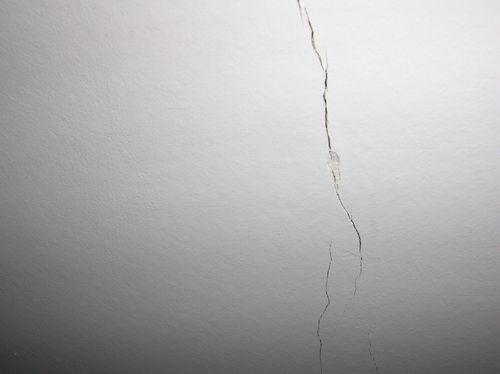Crack: (296, 1, 363, 314), (316, 239, 334, 374)
